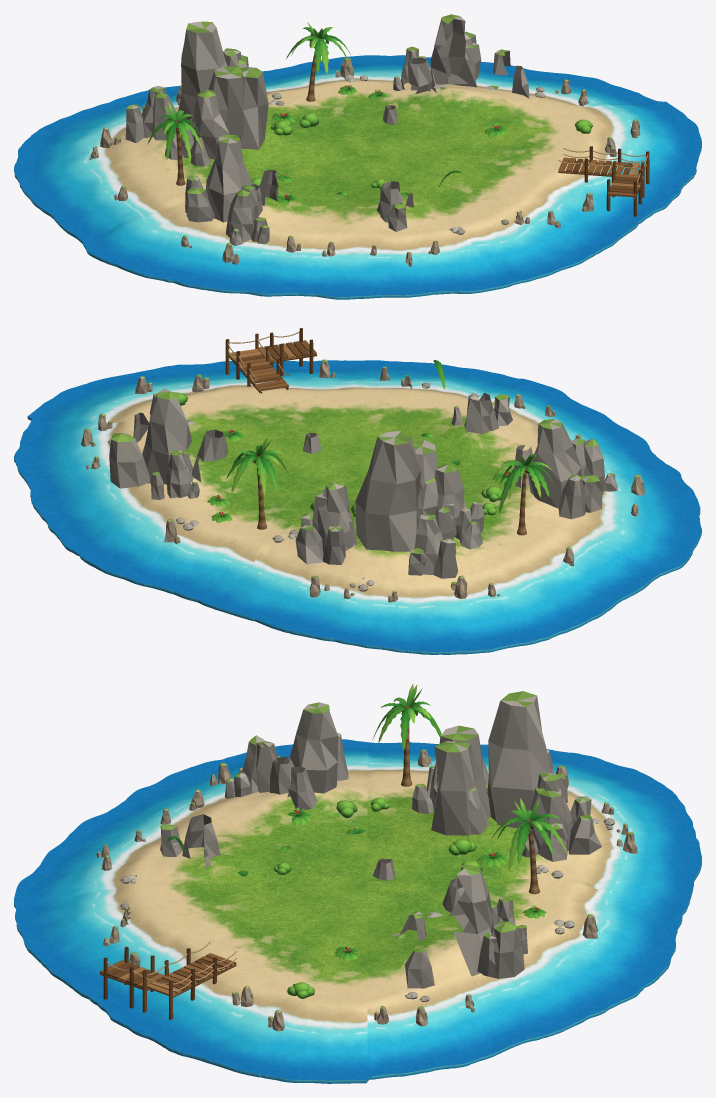
The model's file is Island_Large_Clear.obj.
3 renders of one model, top to bottom at view 1: azimuth 30°, elevation 25°; view 2: azimuth 150°, elevation 25°; view 3: azimuth 270°, elevation 25°, orthographic. The views are drawn at different scales.
Visible parts, largest first — view 1: Island_Large_Clear; view 2: Island_Large_Clear; view 3: Island_Large_Clear.
Boxes of the visible parts, x1,y1,x2,y2 form: Island_Large_Clear: (14, 14, 701, 299); Island_Large_Clear: (14, 328, 701, 654); Island_Large_Clear: (14, 683, 701, 1083).
Bounding box in the file's own units: 23.7 × 4.91 × 20.17.
2 materials, 2 textured.
